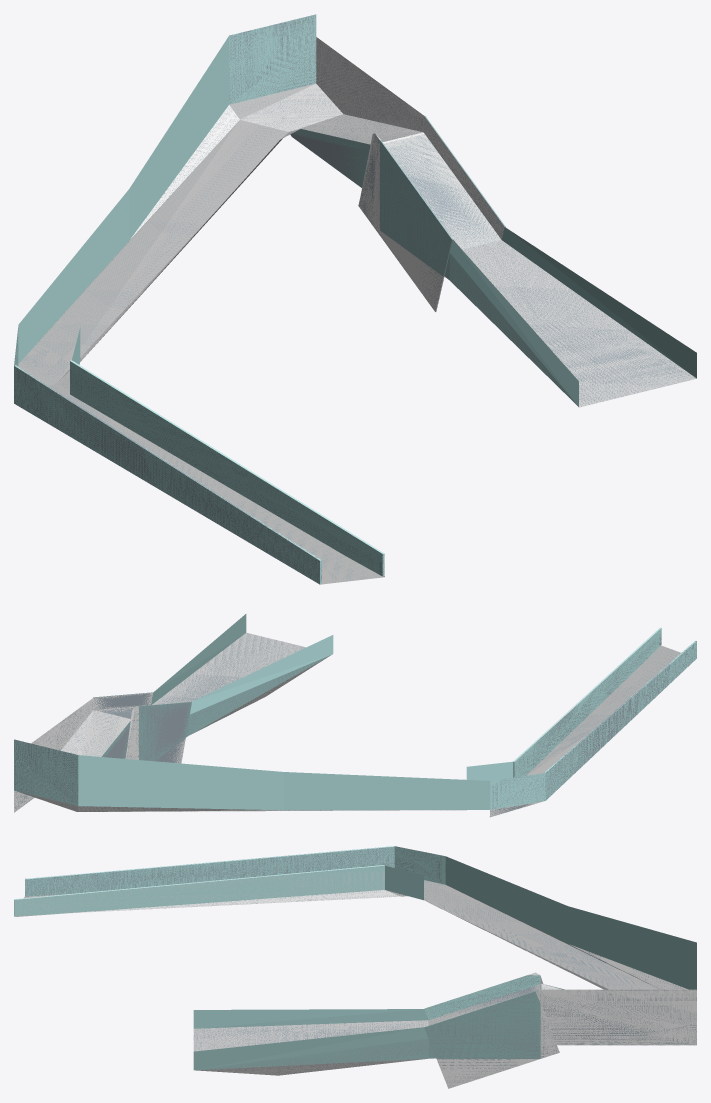
File: rampBoomerangSkechUp.dae
3 renders of one model, top to bottom at view 1: azimuth 30°, elevation 25°; view 2: azimuth 150°, elevation 25°; view 3: azimuth 270°, elevation 25°, orthographic. The views are drawn at different scales.
Parts seen in each view (by area): view 1: SketchUp (×13); view 2: SketchUp (×15); view 3: SketchUp (×14).
Part boxes in pixels (x1=…): SketchUp (×13): x1=14, y1=14, x2=696, y2=584; SketchUp (×15): x1=14, y1=614, x2=696, y2=812; SketchUp (×14): x1=14, y1=846, x2=696, y2=1088.
Bounding box in the file's own units: 65.82 × 98.85 × 18.41.
